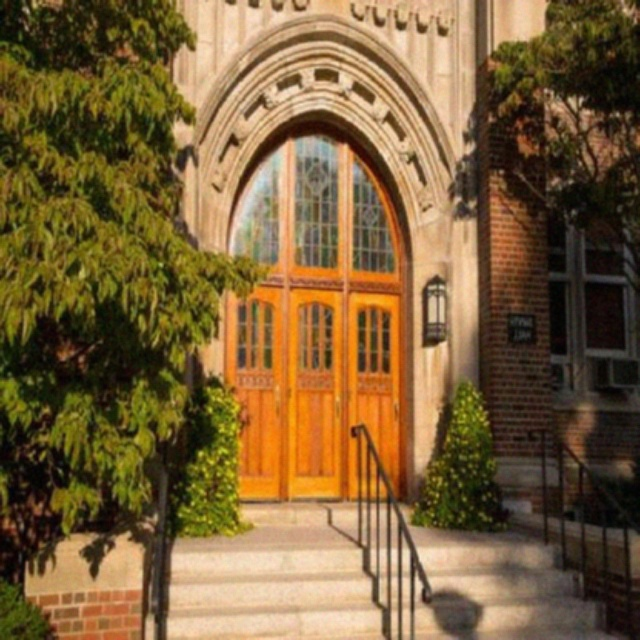stair: (165, 530, 640, 638)
